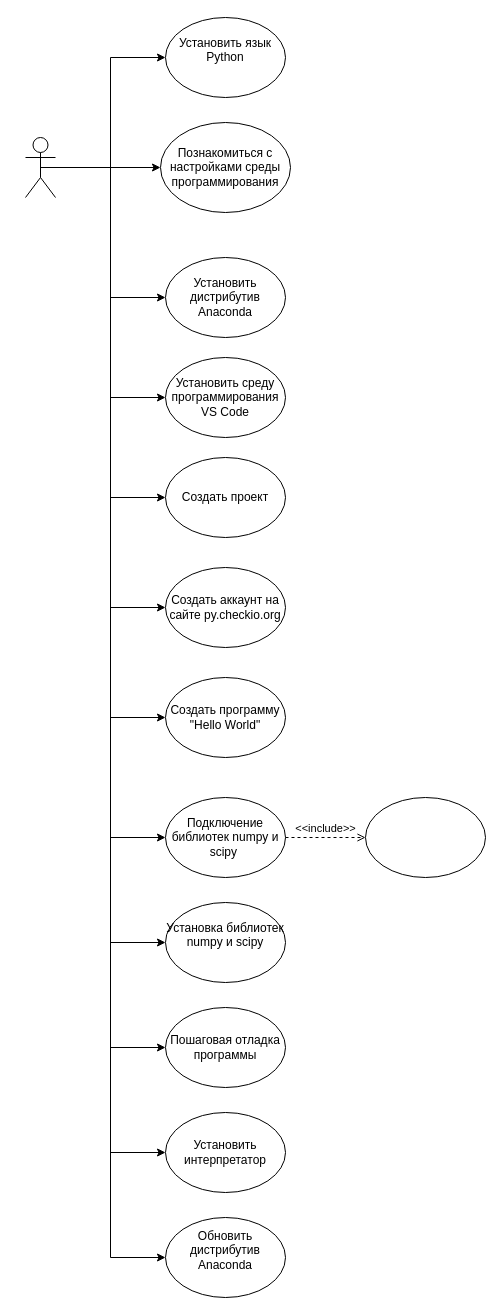
The diagram is 503 pixels wide and 1315 high, and some of its shapes have lost their labels. Here are the shapes that lost their labels. From the top down, the centre of each, then its label:
At point 40,167: "Студент".
At point 425,837: "Проверить видимость библиотек numpy и scipy".
